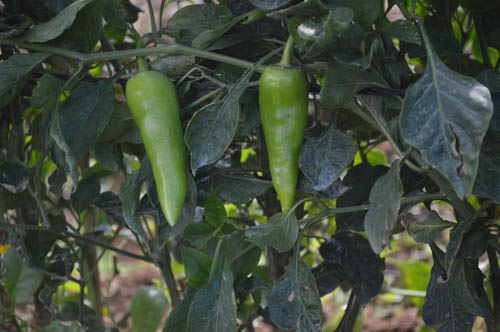ChiliPepper: (125, 72, 189, 226), (260, 65, 308, 216)
